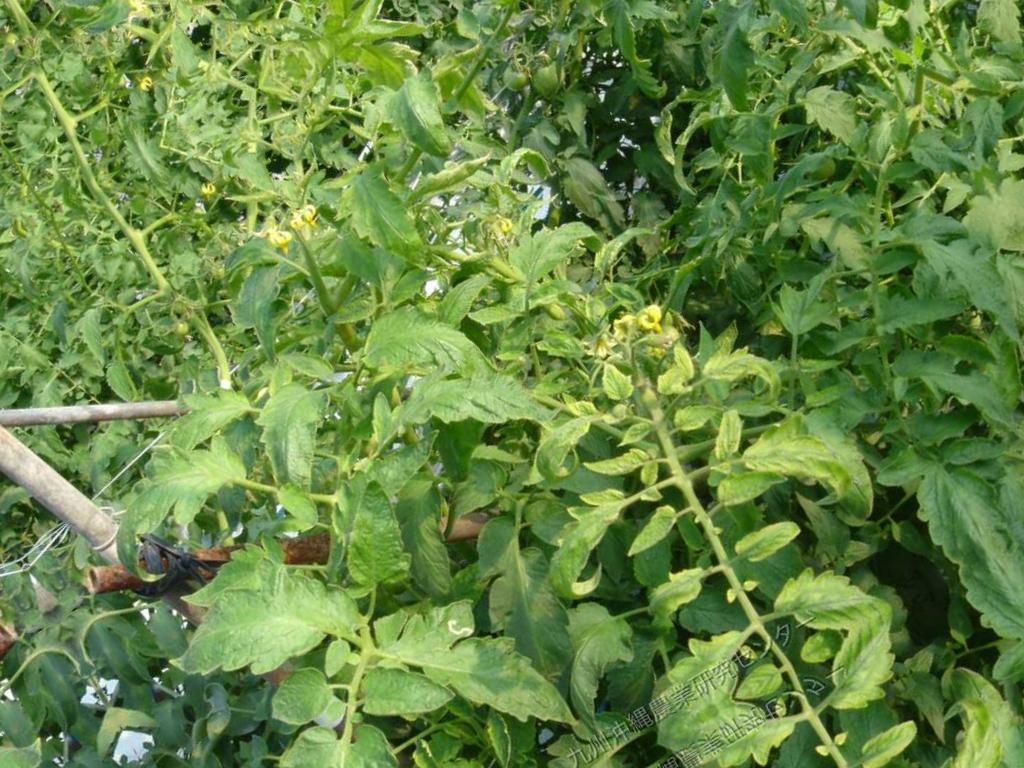Tomato leaf yellow virus: (369, 559, 592, 768), (172, 520, 383, 712), (380, 324, 580, 500), (63, 412, 266, 573), (344, 271, 510, 425), (736, 398, 886, 546), (320, 148, 458, 304), (214, 681, 461, 768), (119, 359, 277, 481), (517, 473, 655, 609), (763, 523, 903, 655), (627, 620, 766, 741), (494, 196, 611, 296), (696, 317, 801, 427), (696, 441, 801, 535), (630, 548, 730, 639), (610, 491, 699, 572), (726, 505, 815, 577), (588, 346, 655, 415)
